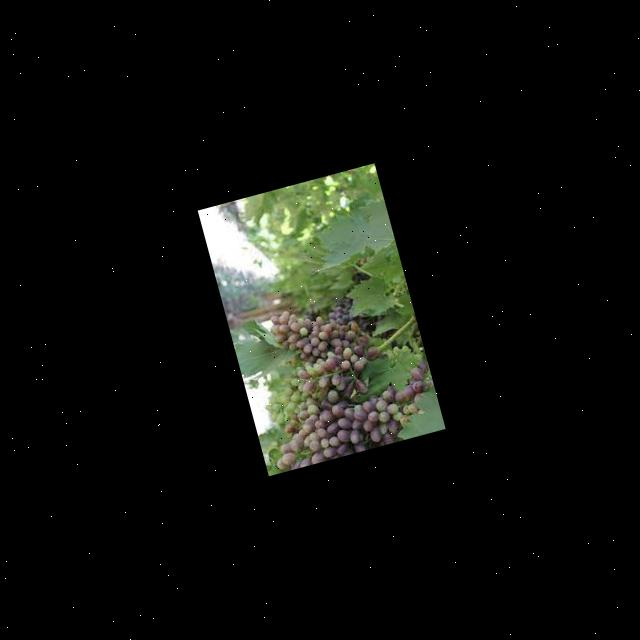grape: (260, 278, 386, 412), (272, 370, 436, 470)
